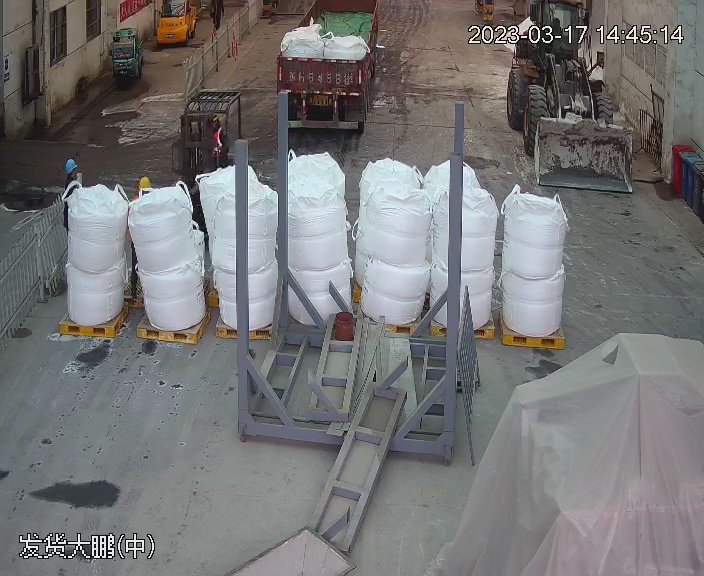helmet: (137, 175, 154, 189), (65, 158, 78, 175)
truck: (272, 1, 385, 131)
